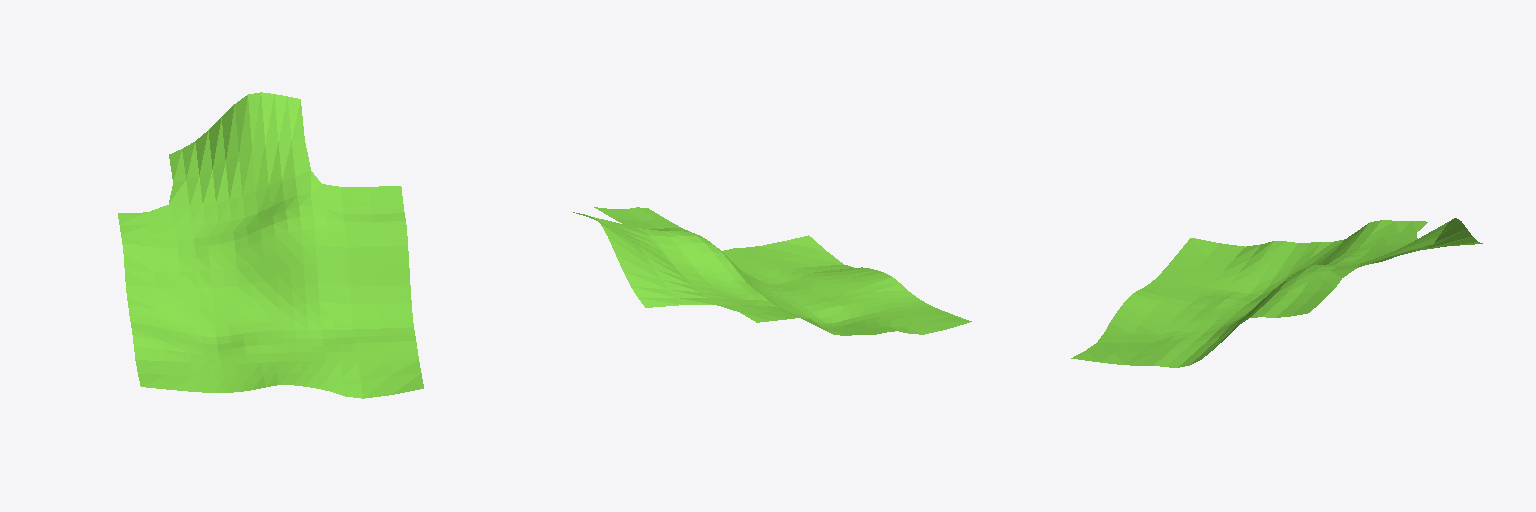
The model's file is phrenderformer_ph01_terrain_00.obj.
3 views of the same model, side by side, from view 1: azimuth 30°, elevation 25°; view 2: azimuth 150°, elevation 25°; view 3: azimuth 270°, elevation 25° (orthographic).
Parts seen in each view (by area): view 1: Plane001; view 2: Plane001; view 3: Plane001.
Boxes of the visible parts, box(x1,y1,x2,y2) form: Plane001: box(118, 92, 423, 398); Plane001: box(573, 207, 971, 335); Plane001: box(1071, 218, 1482, 367).
Bounding box in the file's own units: 116 × 55.17 × 132.